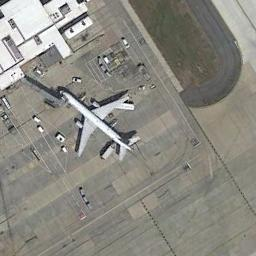Airplane: (56, 82, 142, 162)
